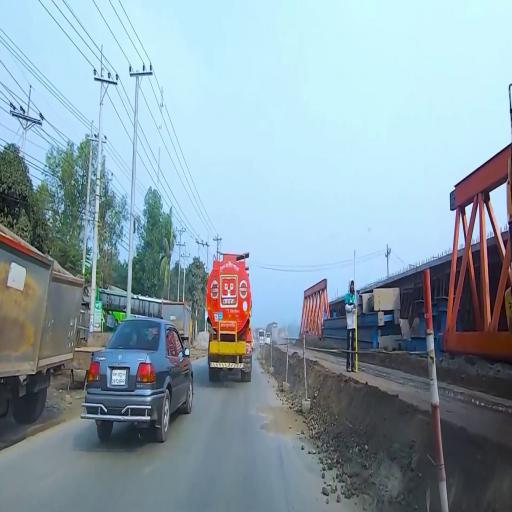bus: (99, 287, 160, 319), (271, 323, 279, 345)
car: (83, 321, 197, 441)
minivan: (259, 331, 265, 347), (266, 334, 271, 346)
truck: (3, 225, 83, 426), (205, 248, 254, 385)
